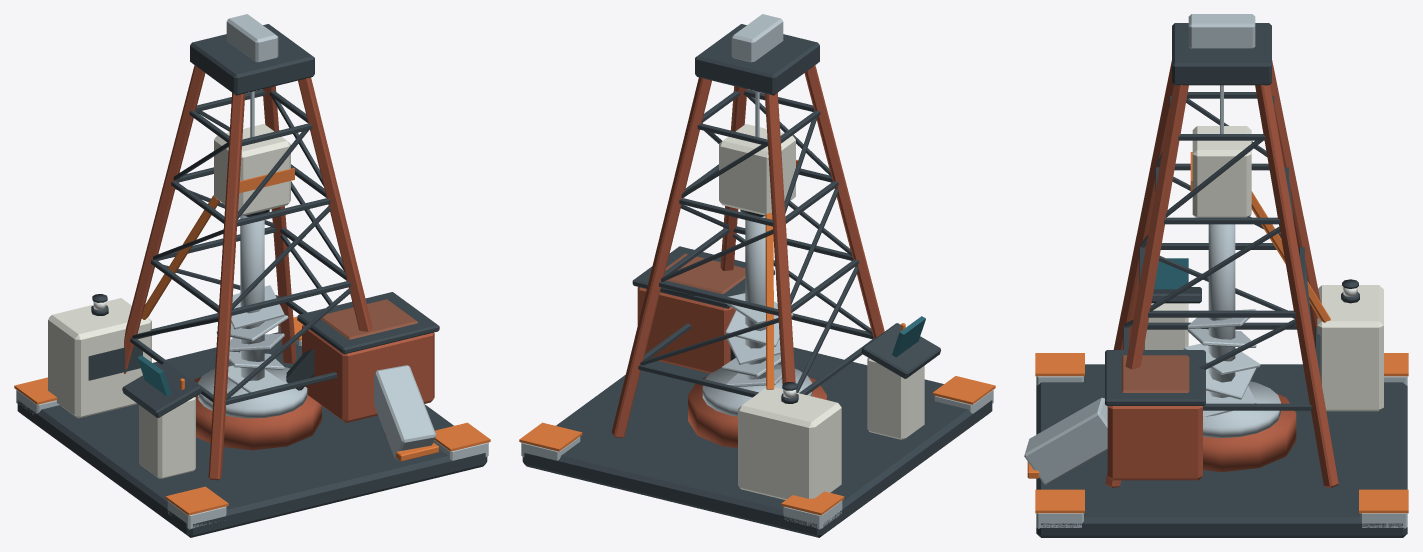
The model's file is drill.glb.
3 renders of one model, left to right at view 1: azimuth 30°, elevation 25°; view 2: azimuth 150°, elevation 25°; view 3: azimuth 270°, elevation 25°, orthographic. The views are drawn at different scales.
Visible parts, largest first — view 1: drill_dark, drill_oxide, drill_ivory, drill_metal, Bit, drill_orange, drill_ore, drill_glass; view 2: drill_dark, drill_oxide, drill_ivory, drill_metal, Bit, drill_orange, drill_ore, drill_glass; view 3: drill_dark, drill_oxide, drill_ivory, drill_metal, Bit, drill_orange, drill_ore, drill_glass.
Part boxes in pixels (x1,y1,x2,y2): drill_dark: [17, 24, 487, 537]; drill_oxide: [124, 65, 434, 480]; drill_ivory: [48, 124, 290, 478]; drill_metal: [16, 14, 488, 529]; Bit: [216, 209, 288, 392]; drill_orange: [14, 168, 490, 515]; drill_ore: [321, 299, 418, 339]; drill_glass: [137, 355, 171, 396]; drill_dark: [522, 24, 992, 537]; drill_oxide: [611, 65, 884, 447]; drill_ivory: [719, 124, 924, 499]; drill_metal: [521, 14, 993, 529]; Bit: [721, 209, 793, 386]; drill_orange: [519, 159, 995, 515]; drill_ore: [665, 253, 745, 293]; drill_glass: [892, 316, 925, 357]; drill_dark: [1036, 23, 1407, 537]; drill_oxide: [1105, 60, 1338, 487]; drill_ivory: [1143, 126, 1383, 411]; drill_metal: [1024, 14, 1407, 528]; Bit: [1183, 224, 1260, 416]; drill_orange: [1027, 152, 1408, 513]; drill_ore: [1121, 355, 1189, 392]; drill_glass: [1154, 258, 1188, 289].
Bounding box in the file's own units: 3.92 × 5.13 × 4.04.
